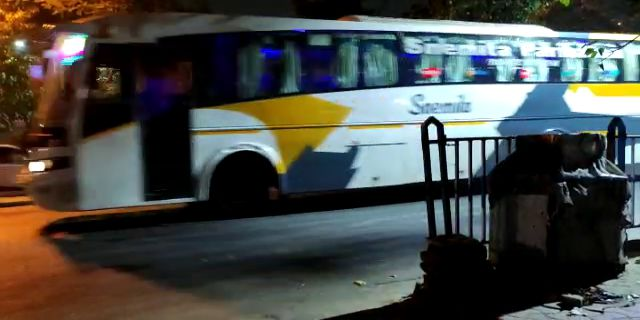Bus: (32, 12, 612, 216)
